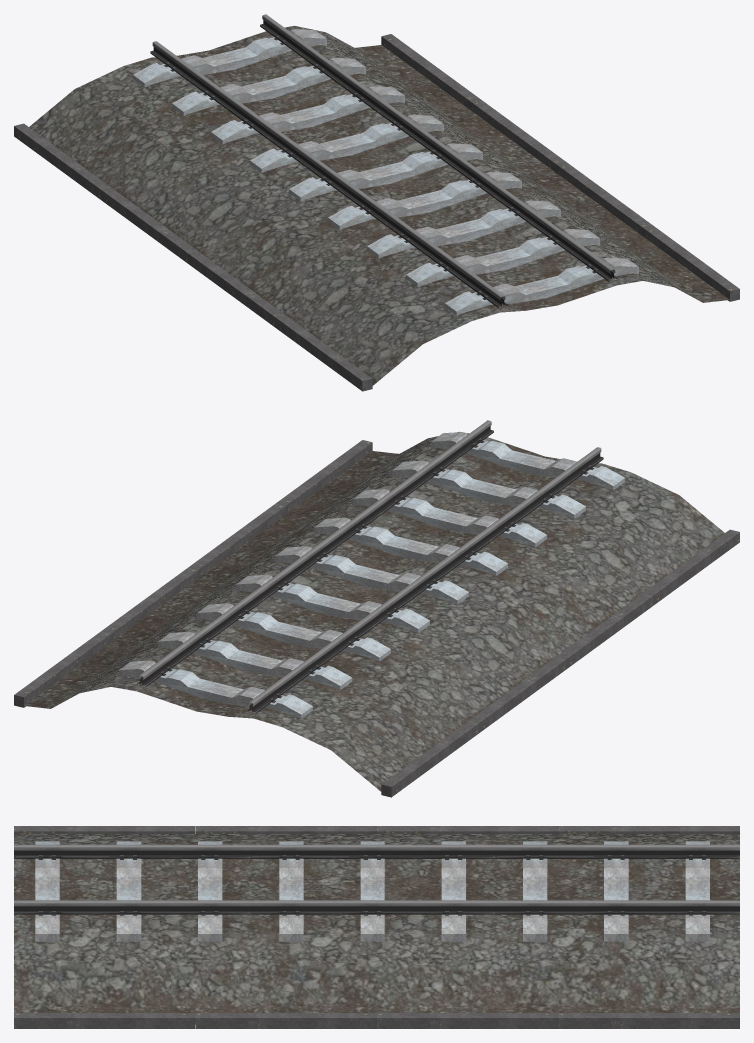
3 renders of one model, top to bottom at view 1: azimuth 30°, elevation 25°; view 2: azimuth 150°, elevation 25°; view 3: azimuth 270°, elevation 25°, orthographic. The views are drawn at different scales.
Visible parts, largest first — view 1: Box020_Railway_ground_0, Box020_Railway_high_0, Box020_Rail_block_0, Box020_Rail_low_0, Box020_Rail_mount_0; view 2: Box020_Railway_ground_0, Box020_Railway_high_0, Box020_Rail_block_0, Box020_Rail_low_0, Box020_Rail_mount_0; view 3: Box020_Railway_ground_0, Box020_Rail_low_0, Box020_Rail_block_0, Box020_Railway_high_0, Box020_Rail_mount_0.
Part boxes in pixels (bbox=[...]): Box020_Railway_ground_0: bbox=[29, 25, 729, 385]; Box020_Railway_high_0: bbox=[133, 29, 638, 315]; Box020_Rail_block_0: bbox=[14, 34, 739, 391]; Box020_Rail_low_0: bbox=[150, 14, 617, 307]; Box020_Rail_mount_0: bbox=[164, 35, 598, 299]; Box020_Railway_ground_0: bbox=[24, 431, 724, 791]; Box020_Railway_high_0: bbox=[119, 432, 624, 718]; Box020_Rail_block_0: bbox=[14, 440, 739, 797]; Box020_Rail_low_0: bbox=[136, 420, 603, 713]; Box020_Rail_mount_0: bbox=[160, 438, 594, 702]; Box020_Railway_ground_0: bbox=[14, 834, 739, 1024]; Box020_Rail_low_0: bbox=[14, 844, 739, 914]; Box020_Rail_block_0: bbox=[14, 826, 739, 1028]; Box020_Railway_high_0: bbox=[35, 841, 709, 941]; Box020_Rail_mount_0: bbox=[38, 855, 705, 915].
Size of the model in its own units: 5.03 by 0.7728 by 8.04.
5 materials, 5 textured.
